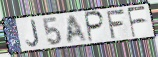5: (41, 16, 63, 47)
A: (66, 14, 88, 45)
F: (126, 5, 147, 39), (105, 8, 126, 41)
J: (25, 19, 41, 48)
P: (85, 10, 106, 44)
